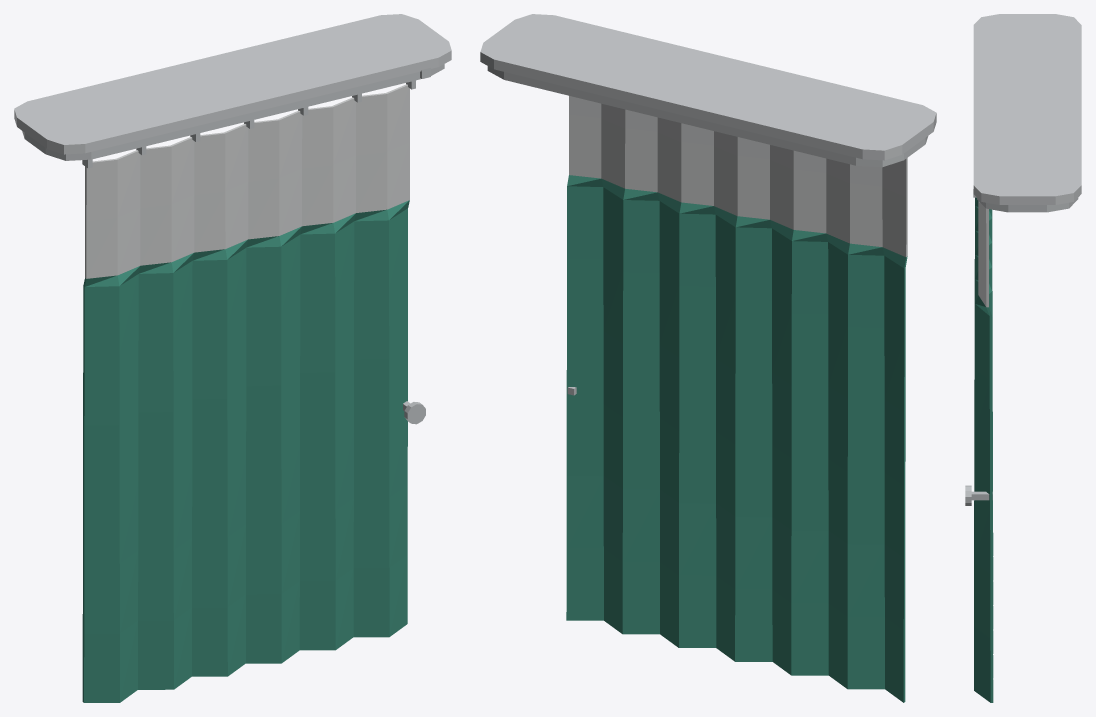
File: privacy-curtain-panel-1e1593.glb
3 views of the same model, side by side, from view 1: azimuth 30°, elevation 25°; view 2: azimuth 150°, elevation 25°; view 3: azimuth 270°, elevation 25° (orthographic). The views are drawn at different scales.
Visible parts, largest first — view 1: privacy-curtain-mesh; view 2: privacy-curtain-mesh; view 3: privacy-curtain-mesh.
Boxes of the visible parts, left/top/right/bottom form: privacy-curtain-mesh: left=14, top=14, right=451, bottom=702; privacy-curtain-mesh: left=480, top=14, right=936, bottom=702; privacy-curtain-mesh: left=965, top=14, right=1081, bottom=702.
Bounding box in the file's own units: 2 × 2.7 × 0.538.
